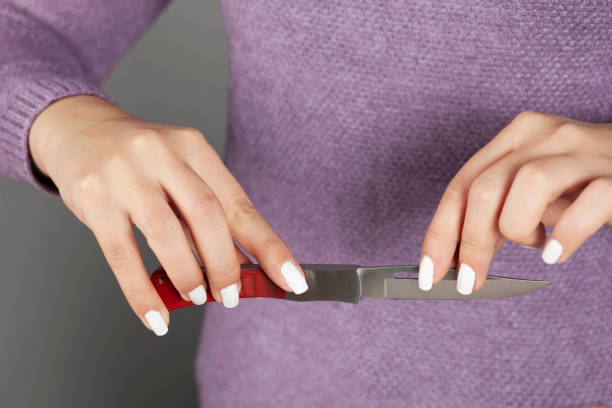knife: (148, 265, 551, 311)
